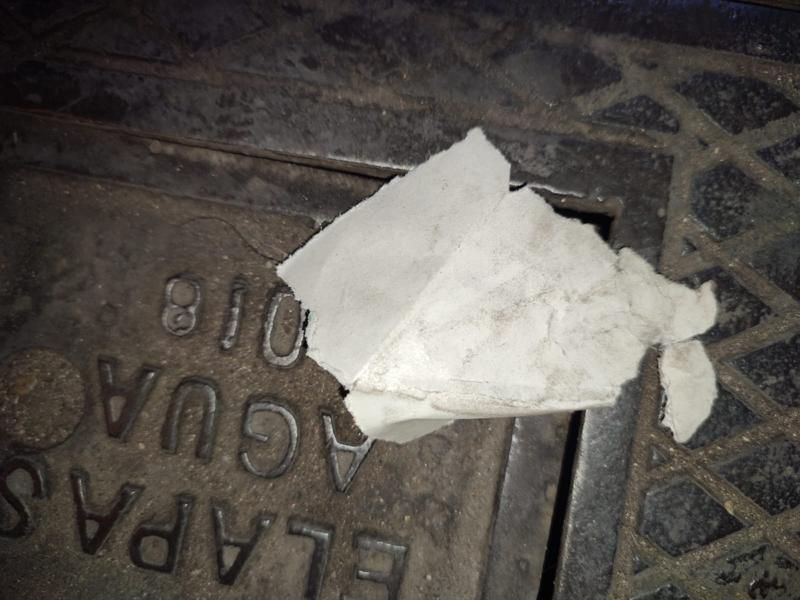papel: (273, 128, 721, 446)
